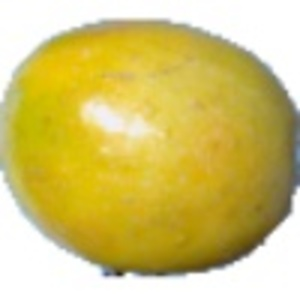maracujá: (1, 17, 300, 281)
